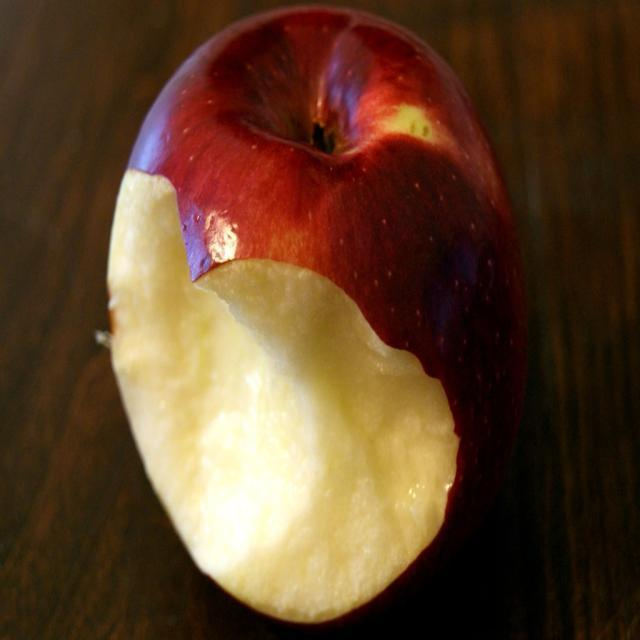Apple: (98, 4, 530, 627)
